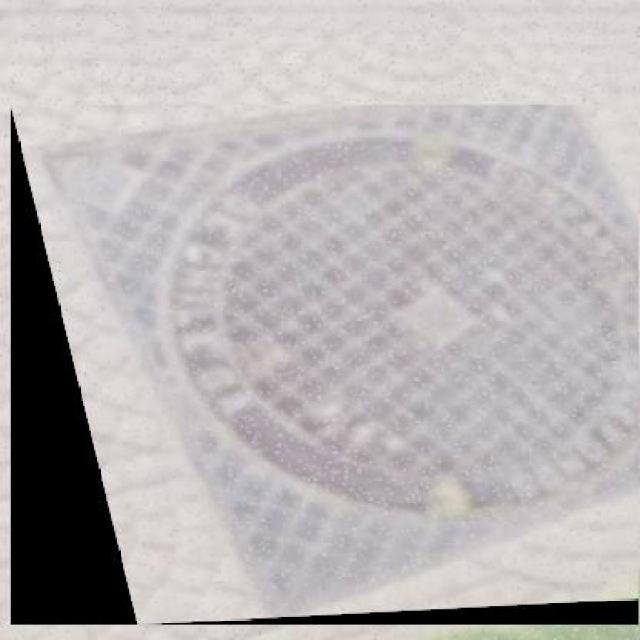Manhole: (11, 104, 638, 626)
